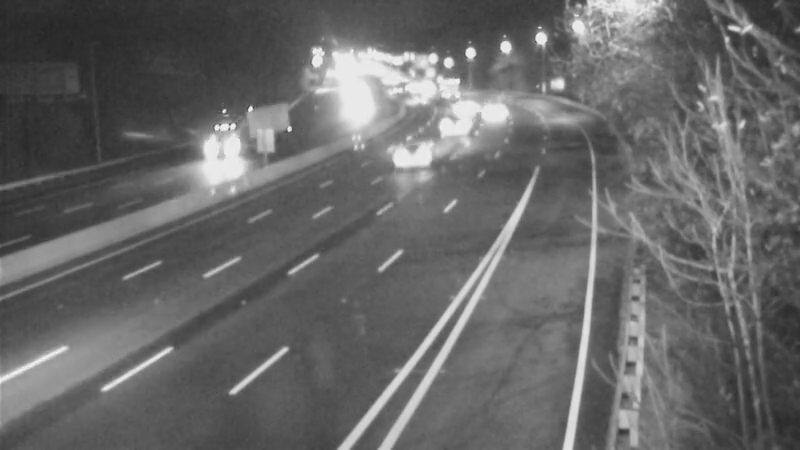vehicle: (424, 64, 474, 114), (433, 81, 483, 131), (470, 84, 520, 134), (432, 95, 482, 145), (391, 125, 441, 175), (212, 117, 262, 167)
